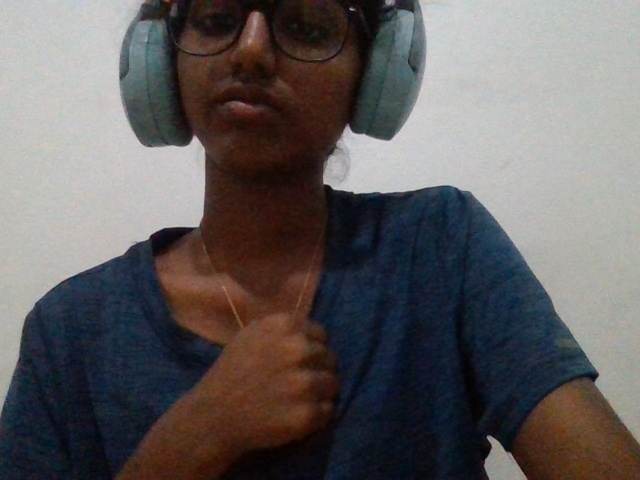Sorry: (162, 285, 353, 480)
